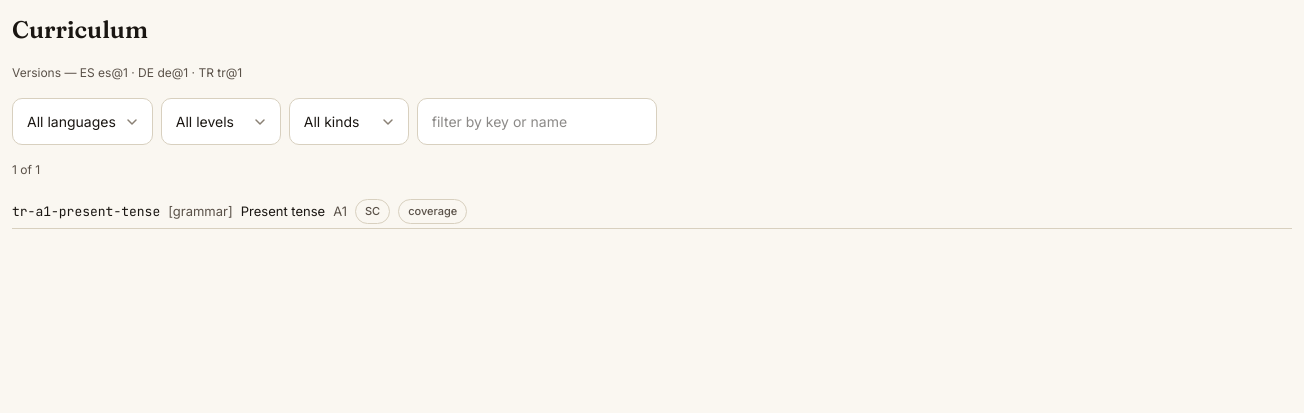
Test: CurriculumPage › renders a row with key, kind badge, and flag chips; expand reveals detail + deep-link
Check: the text "Present tense" is shown, box top-left (241, 202), bottom-right (325, 221)
Check: the text "SC" is shown, box top-left (355, 199), bottom-right (390, 224)
Click the text "tr-a1-present-tense" at (86, 211), box top-left (12, 202), bottom-right (160, 221)
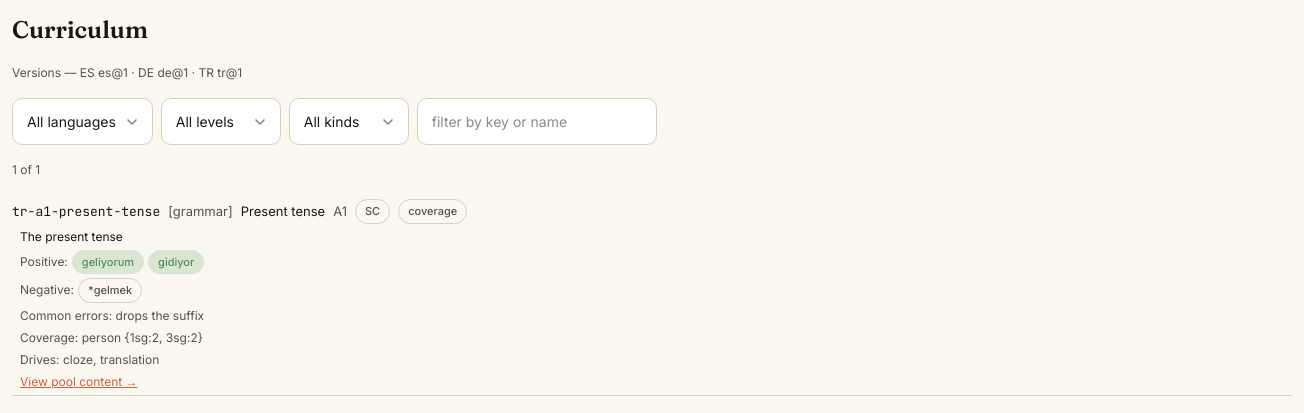
Check: the text "The present tense" is shown, box top-left (20, 228), bottom-right (123, 244)
Check: the text "geliyorum" is shown, box top-left (72, 250), bottom-right (144, 274)
